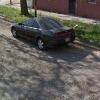Car: (9, 7, 78, 51)
